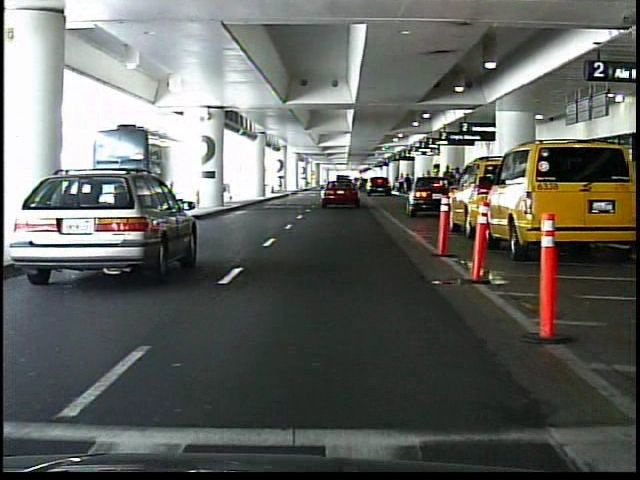person: (440, 162, 456, 211), (398, 173, 407, 195), (405, 173, 413, 195)
